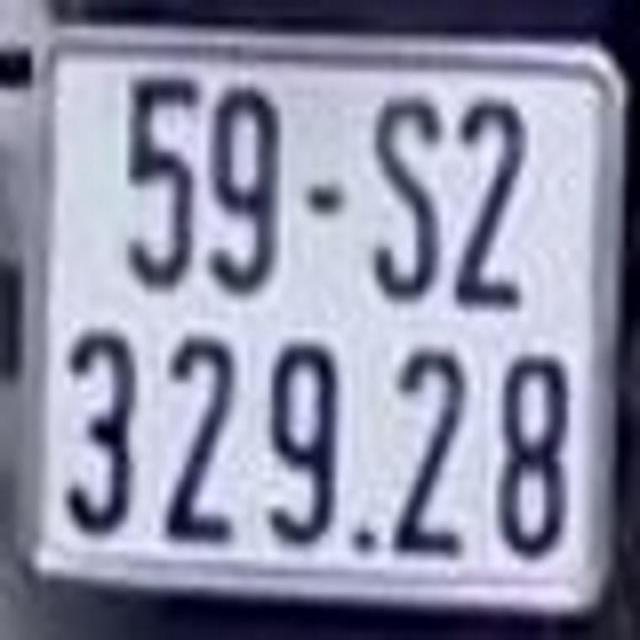2: (161, 332, 242, 550), (454, 100, 526, 311), (396, 338, 463, 553)
3: (65, 328, 135, 531)
5: (121, 75, 194, 292)
8: (501, 356, 568, 556)
9: (270, 346, 340, 549), (212, 81, 280, 289)
S: (375, 95, 440, 300)
